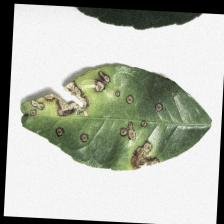canker: (16, 64, 161, 163)
